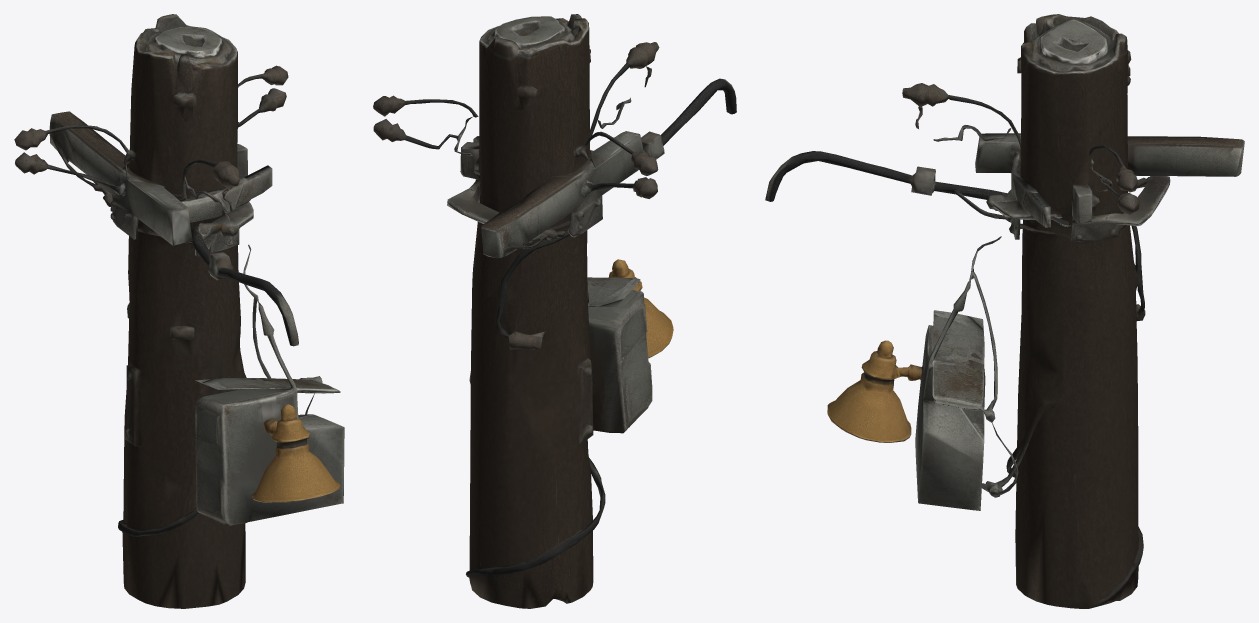
File: utility_pole.glb
3 renders of one model, left to right at view 1: azimuth 30°, elevation 25°; view 2: azimuth 150°, elevation 25°; view 3: azimuth 270°, elevation 25°, orthographic.
Size of the model in its own units: 0.9918 by 1.9 by 1.5.
1 material, 1 textured.
